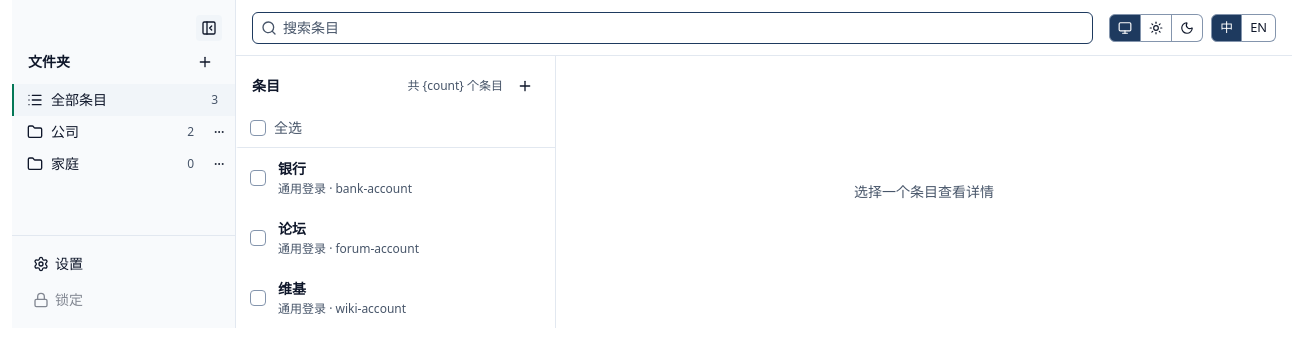
Test: 折叠与展开侧栏 › 折叠与展开都经偏好桥保存
Click the button named "收起侧栏".
click(209, 28)  # box [195, 14, 223, 42]
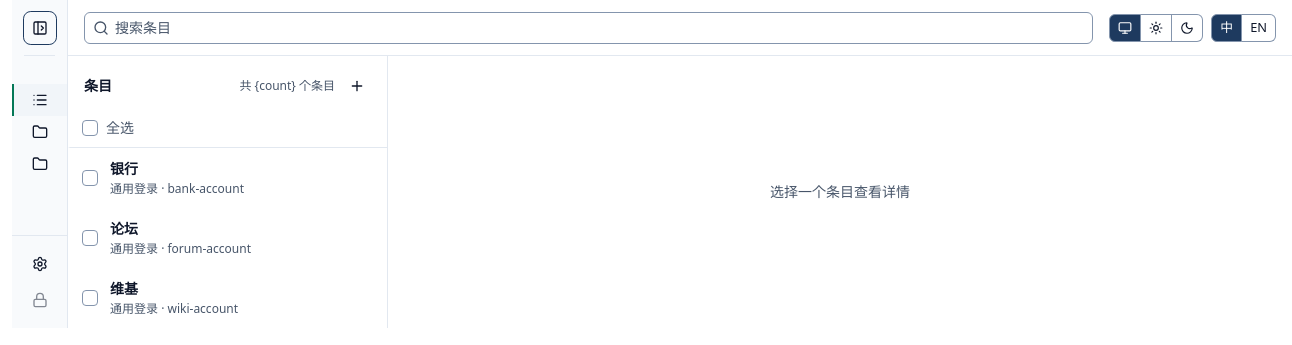
Click the button named "展开侧栏".
click(40, 28)  # box [26, 14, 54, 42]
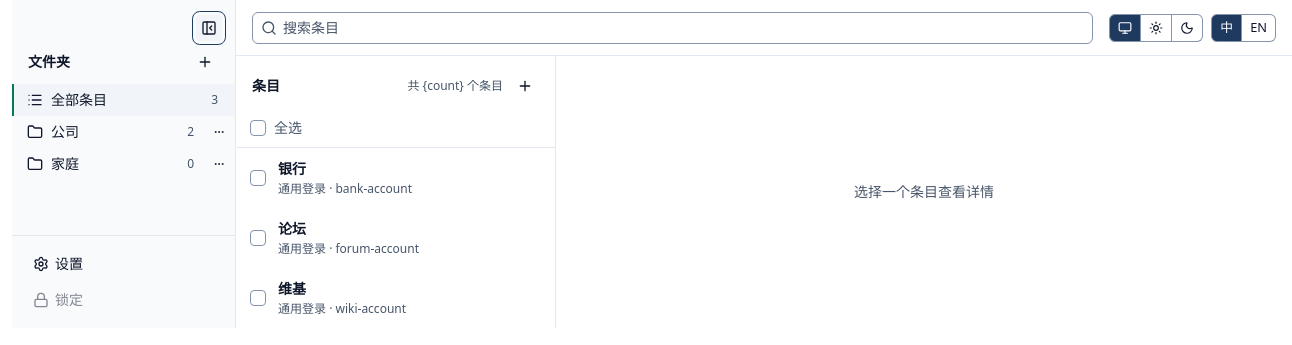
Check: the button named "收起侧栏" is shown, box [195, 14, 223, 42]
